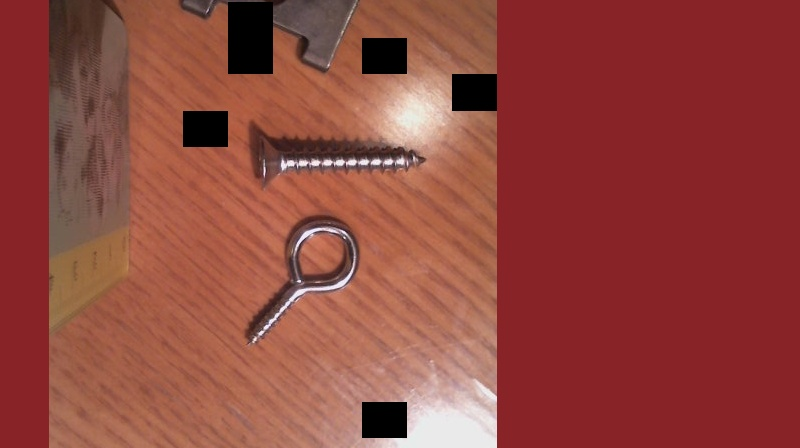O001: (239, 212, 362, 347)
O002: (178, 0, 370, 74)
S001: (251, 132, 426, 193)
